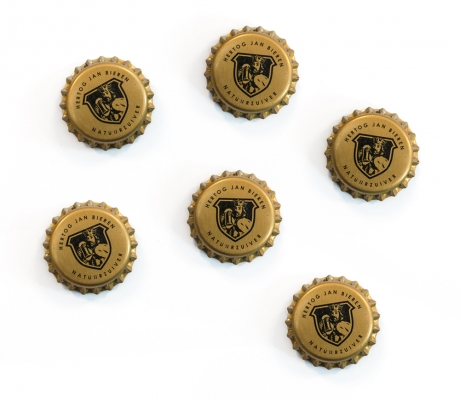hertog jan: (201, 25, 301, 123), (322, 106, 420, 204), (185, 168, 282, 266), (41, 200, 138, 297), (284, 274, 380, 371), (58, 56, 156, 151)
